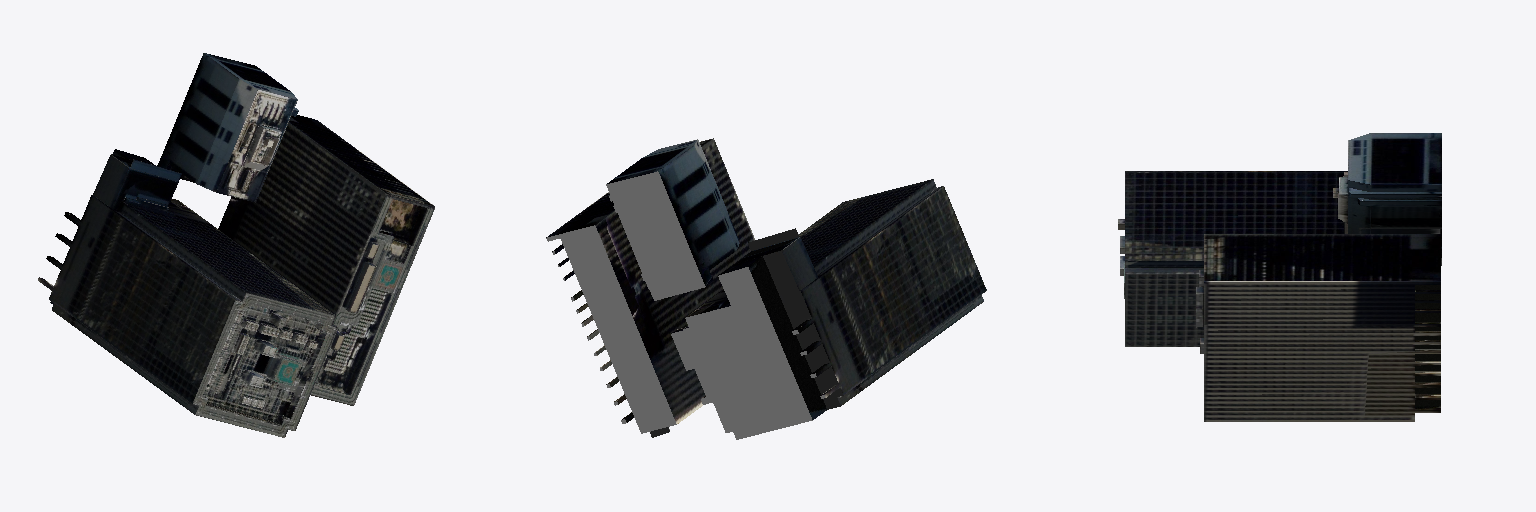
3 views of the same model, side by side, from view 1: azimuth 30°, elevation 25°; view 2: azimuth 150°, elevation 25°; view 3: azimuth 270°, elevation 25° (orthographic).
Bounding box in the file's own units: 146 × 135 × 145.
3 materials, 3 textured.